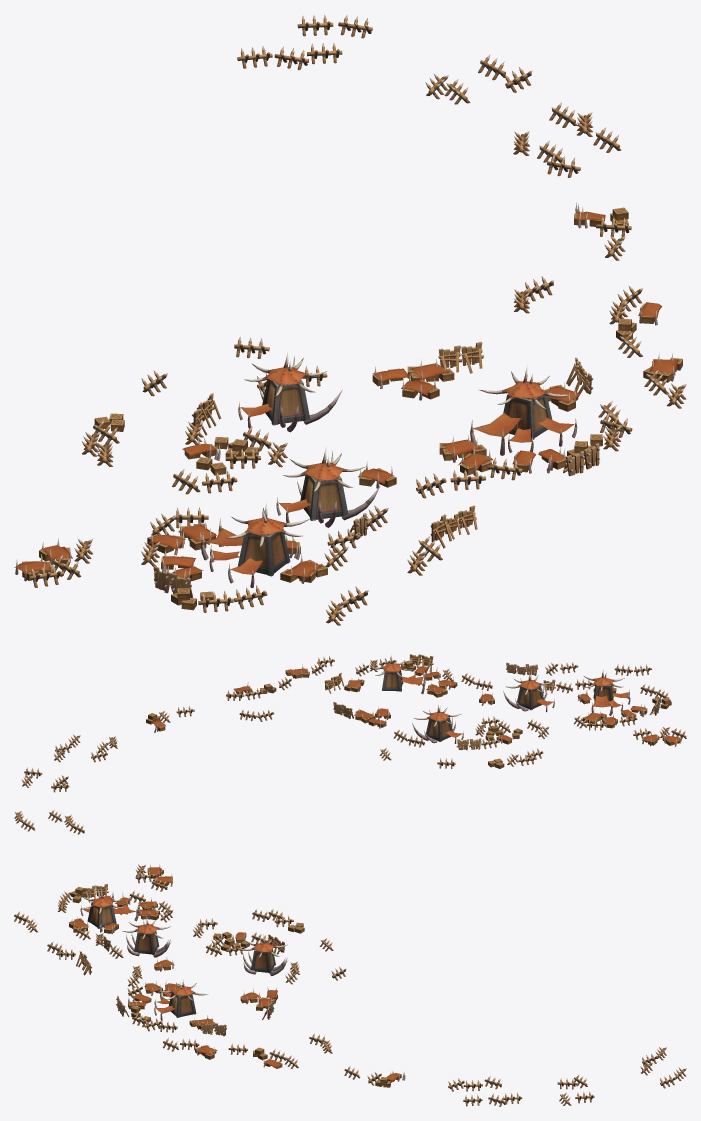
Rendered from zhalan_group4.FBX.
3 views of the same model, one above another, from view 1: azimuth 30°, elevation 25°; view 2: azimuth 150°, elevation 25°; view 3: azimuth 270°, elevation 25° (orthographic). The views are drawn at different scales.
Parts seen in each view (by area): view 1: zhalan_group4; view 2: zhalan_group4; view 3: zhalan_group4.
Boxes of the visible parts, x1,y1,x2,y2 form: zhalan_group4: [14, 15, 686, 625]; zhalan_group4: [14, 654, 686, 834]; zhalan_group4: [14, 864, 686, 1106].
Size of the model in its own units: 154 by 11.85 by 185.
